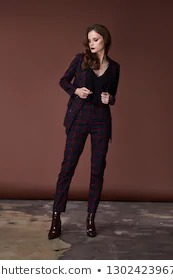S_W_pants: (52, 98, 113, 215)
